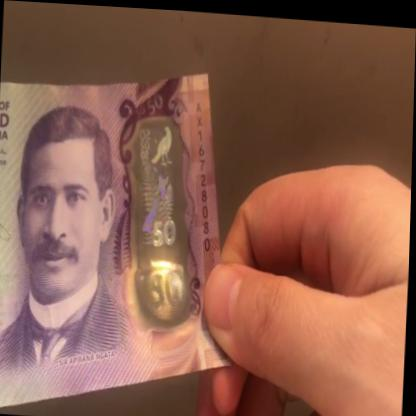50F: (131, 117, 193, 317)
